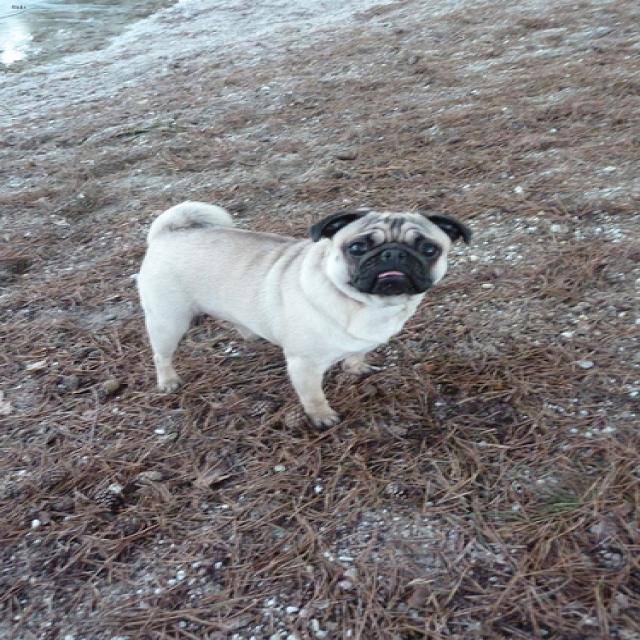dog-pug: (128, 191, 481, 435)
